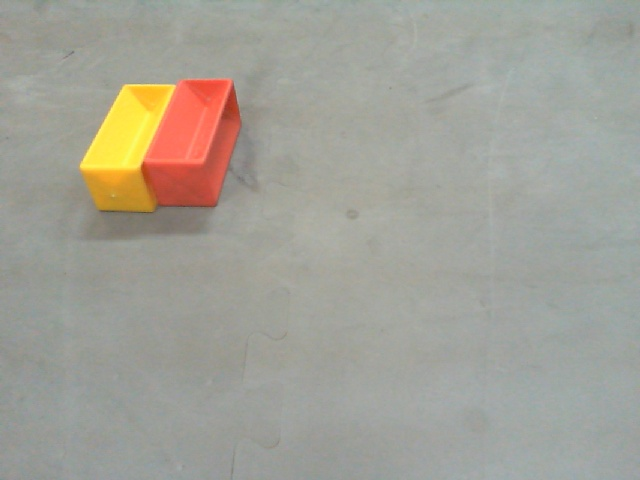RedSample: (142, 74, 244, 217)
YellowSample: (75, 82, 176, 214)
